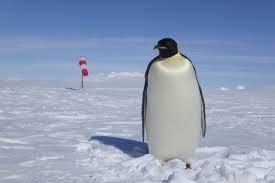emporer: (134, 30, 223, 183)
